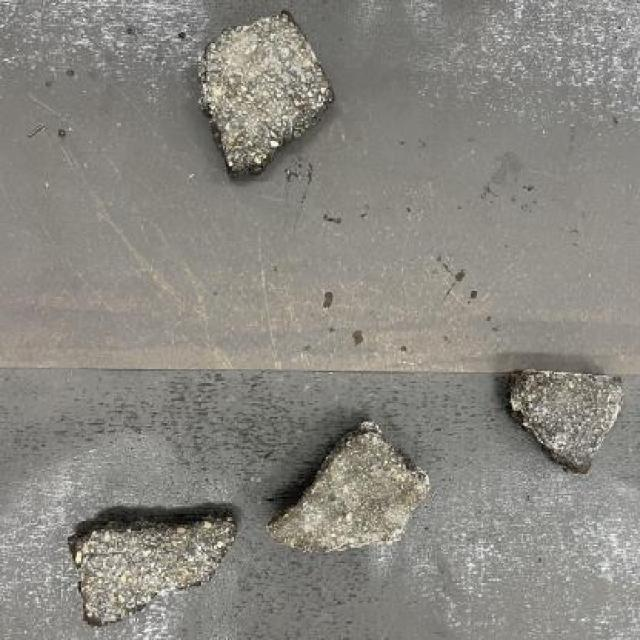Road Debris: (208, 25, 324, 166), (286, 432, 399, 536), (79, 518, 216, 594), (520, 371, 611, 462)
